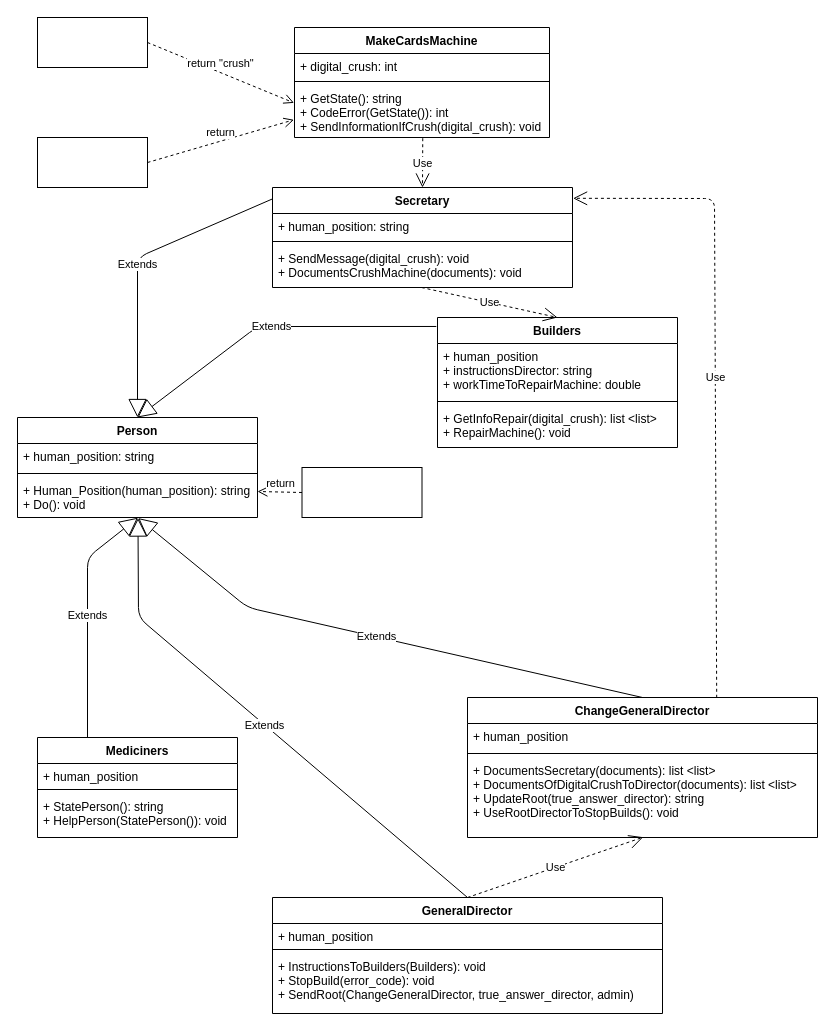
Image size: 835x1034. Some labels were removed from this diagram. Each missing label, with the centre of its shape:
DataBase: Table: code errors: pixel 92 162
DataBase: Table: human_positions: pixel 361 492
DataBase: Table: states machine: pixel 92 42
